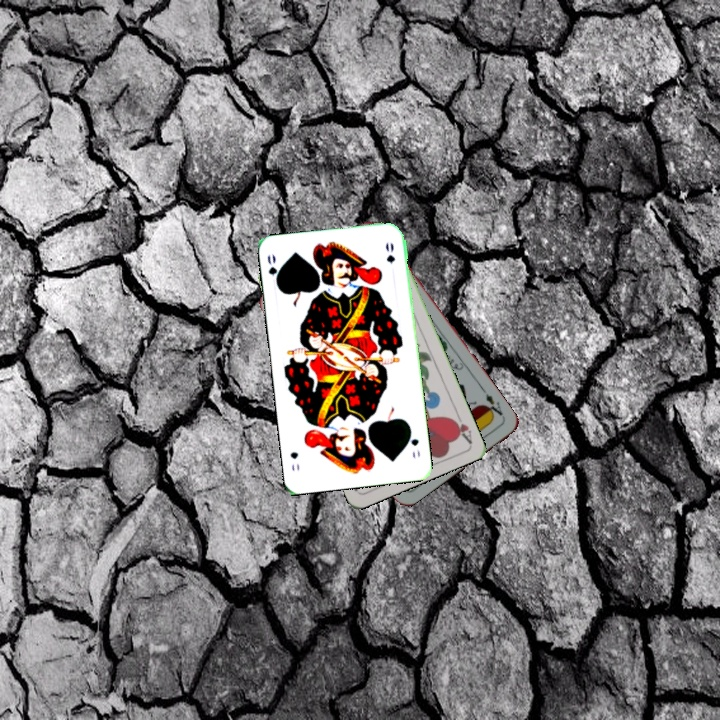EA: (480, 390, 507, 421)
GO: (263, 250, 283, 290), (404, 424, 423, 461)
HA: (447, 407, 475, 446)
